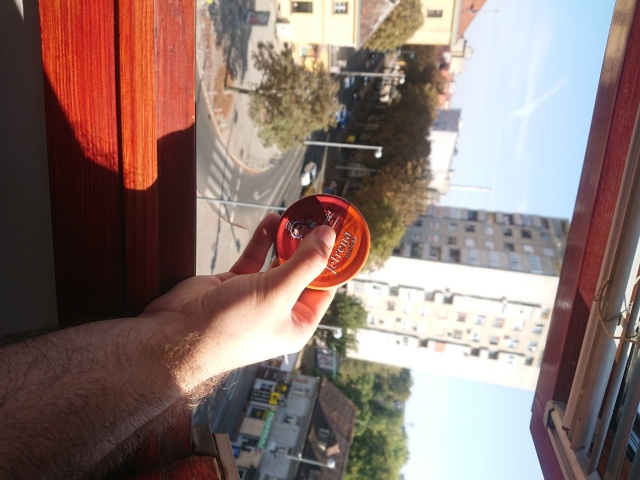Gavrilovic Pork Liver Pate 100g: (270, 190, 372, 292)
